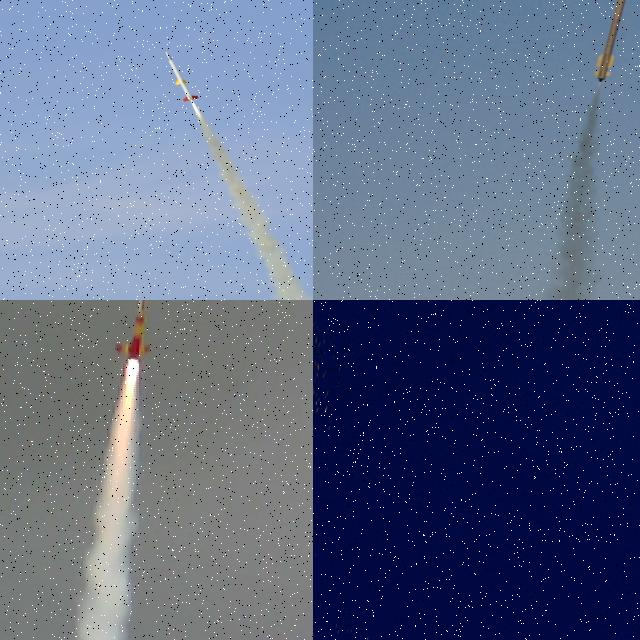Rocket: (591, 0, 628, 83), (113, 300, 157, 359), (165, 51, 199, 102)
